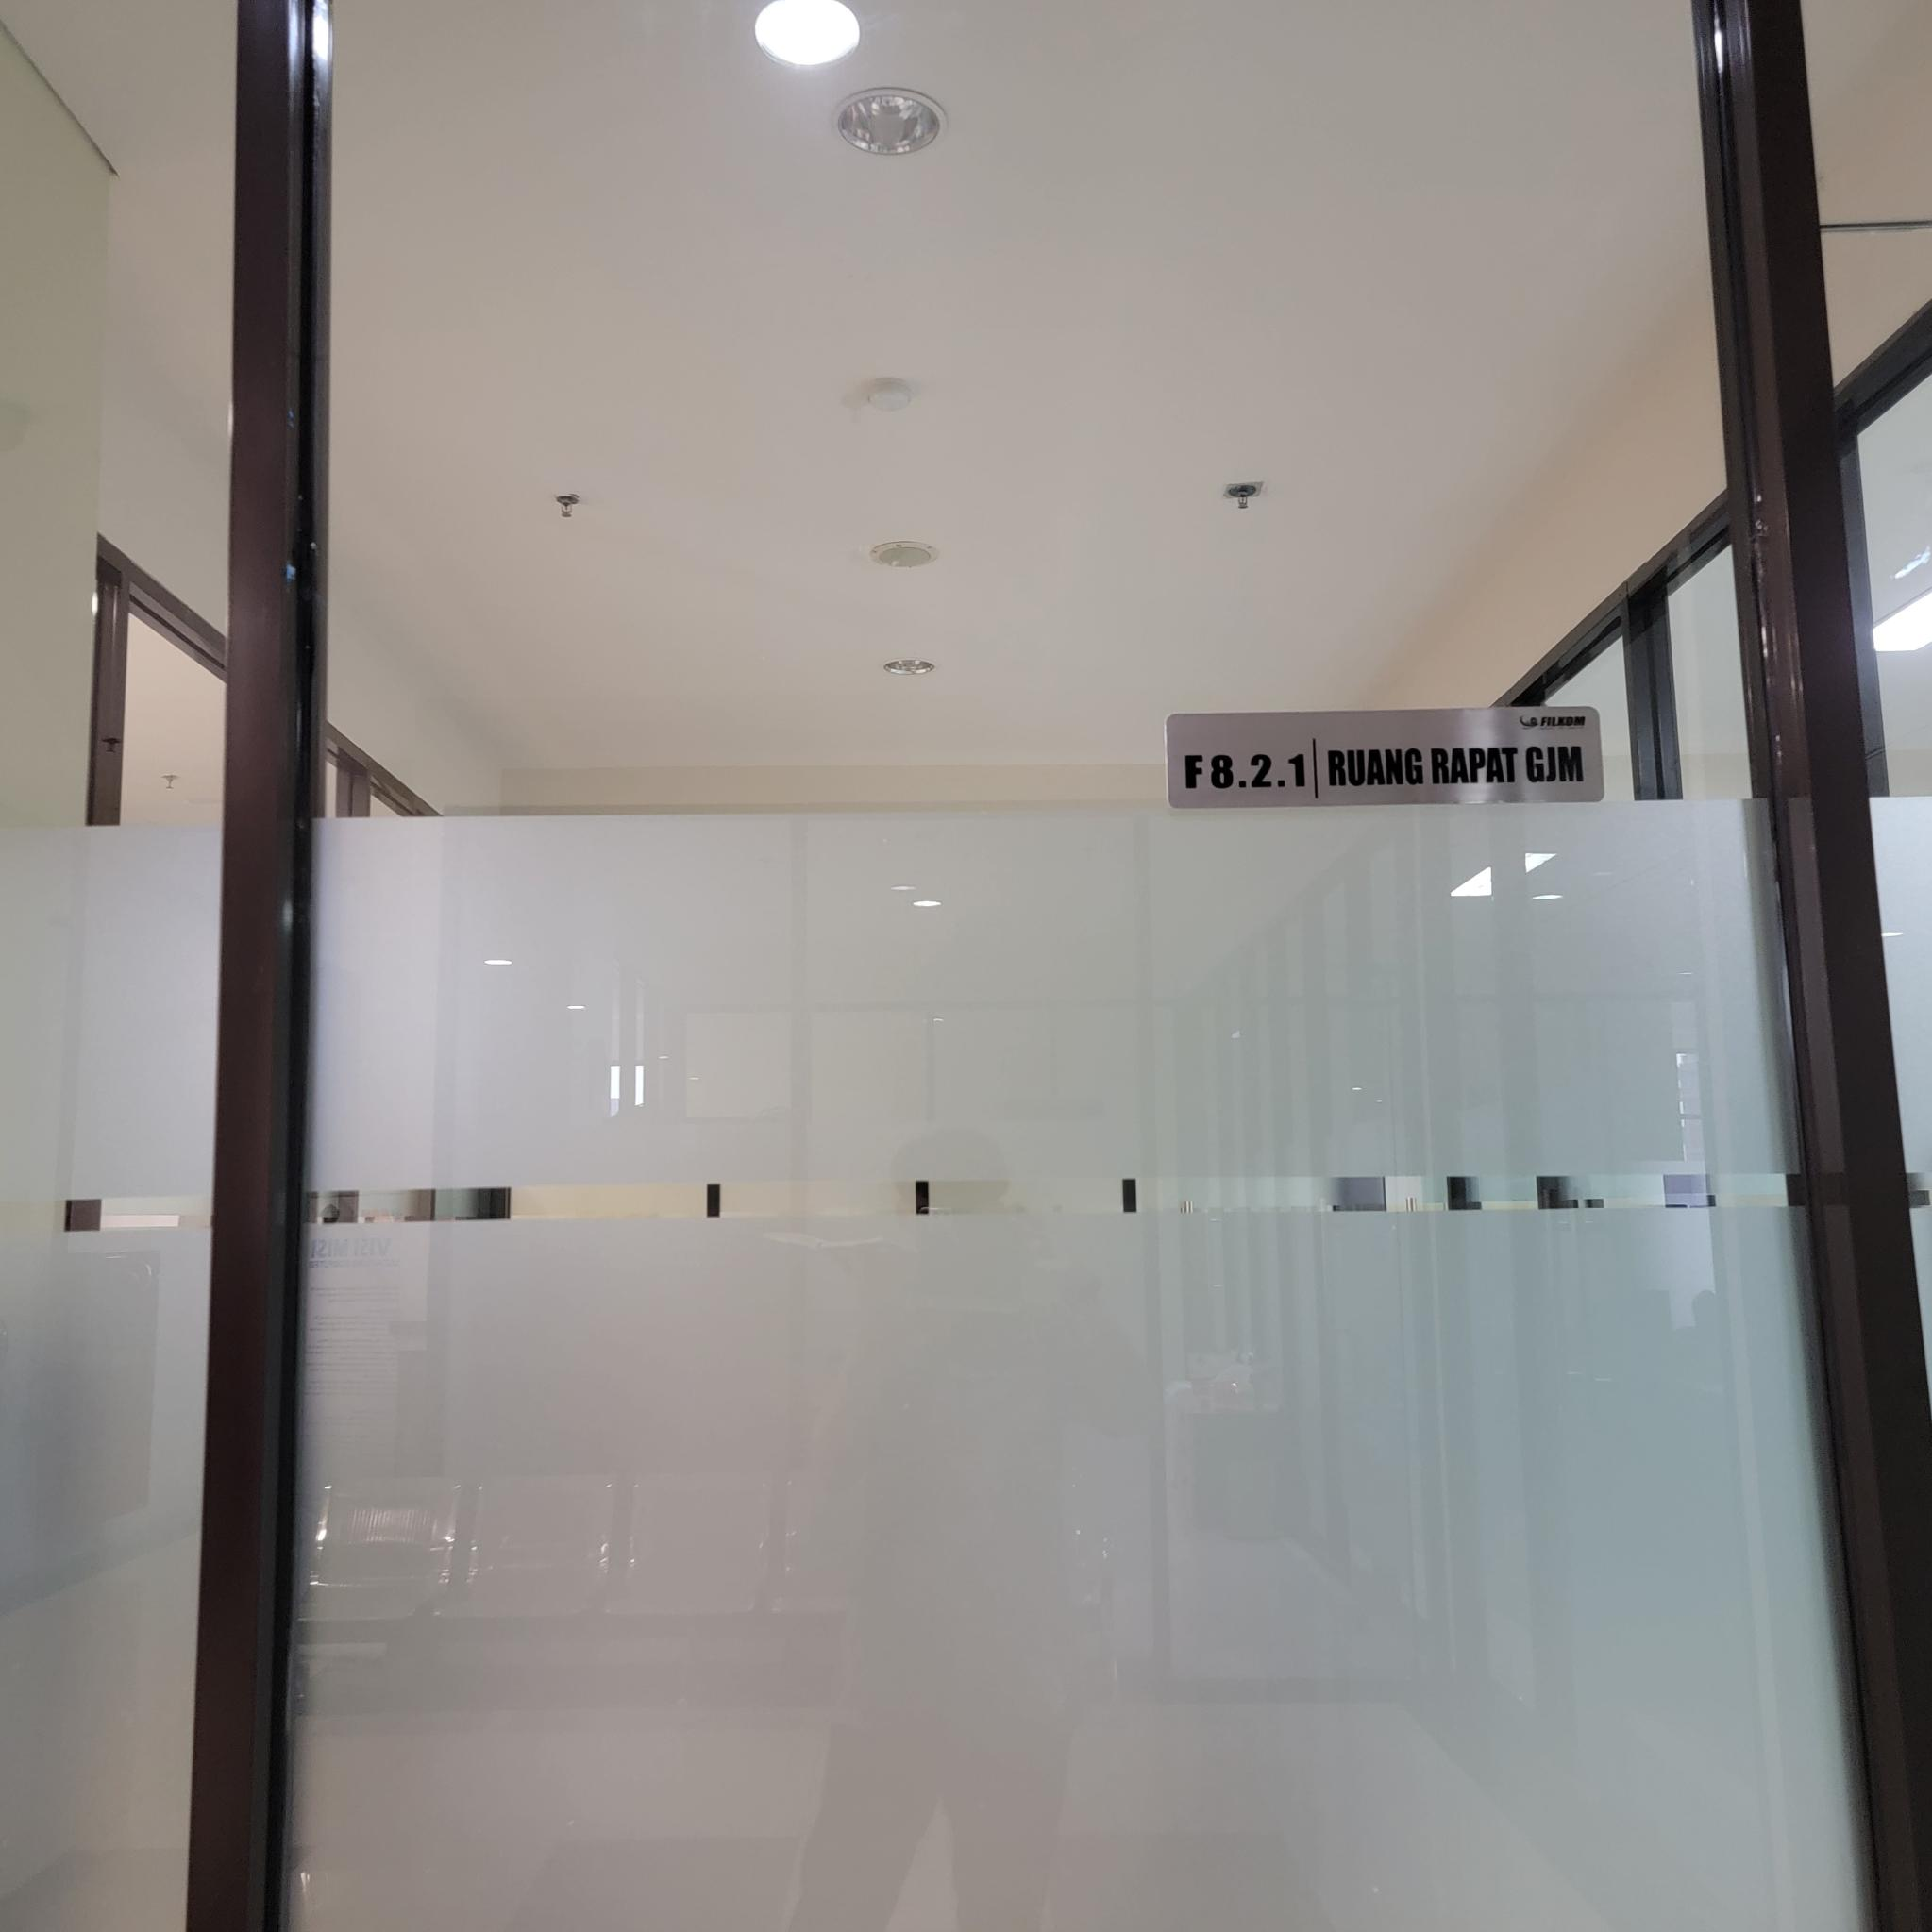plate: (1164, 701, 1612, 812)
